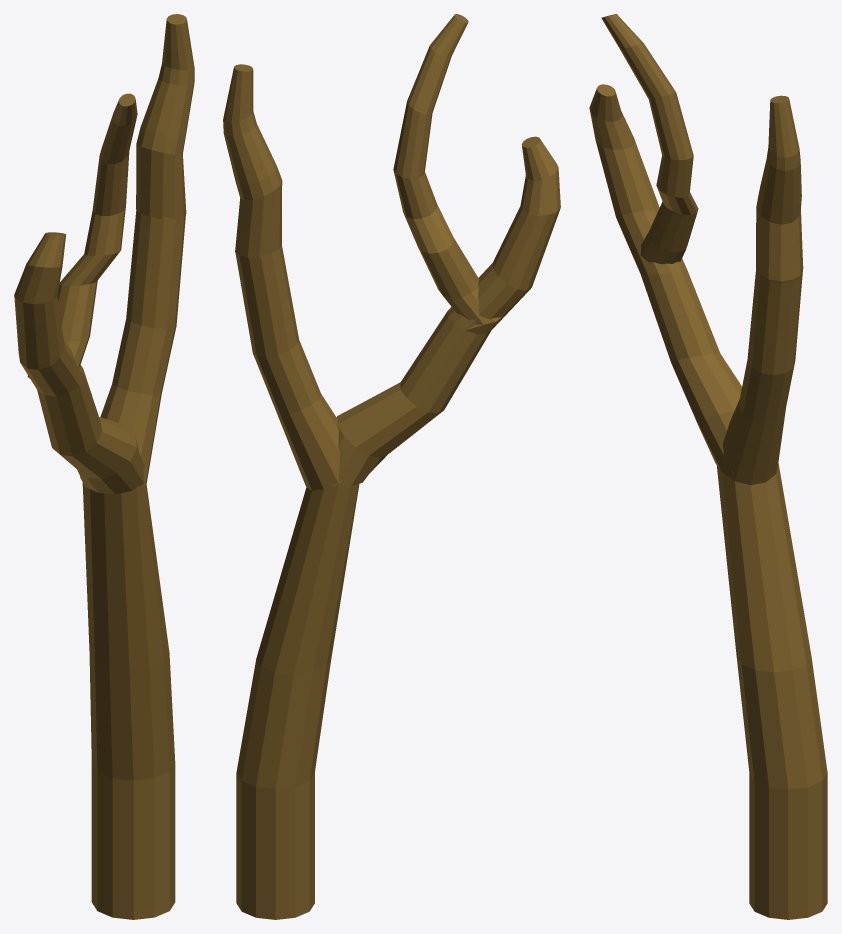
Rendered from Stick 1.5.fbx.
3 views of the same model, side by side, from view 1: azimuth 30°, elevation 25°; view 2: azimuth 150°, elevation 25°; view 3: azimuth 270°, elevation 25° (orthographic). The views are drawn at different scales.
Visible parts, largest first — view 1: Stick A5; view 2: Stick A5; view 3: Stick A5.
Boxes of the visible parts, box(x1,y1,x2,y2) form: Stick A5: box(14, 14, 194, 919); Stick A5: box(223, 14, 560, 919); Stick A5: box(589, 14, 827, 919).
Bounding box in the file's own units: 733 × 2381 × 609.
